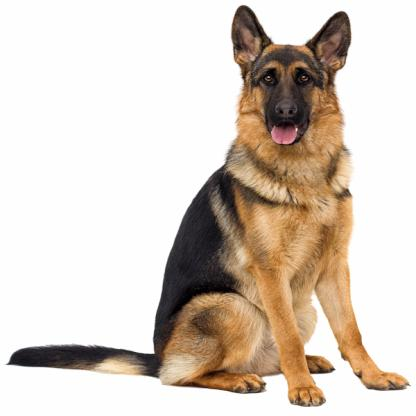german shepherd: (10, 3, 408, 404)
